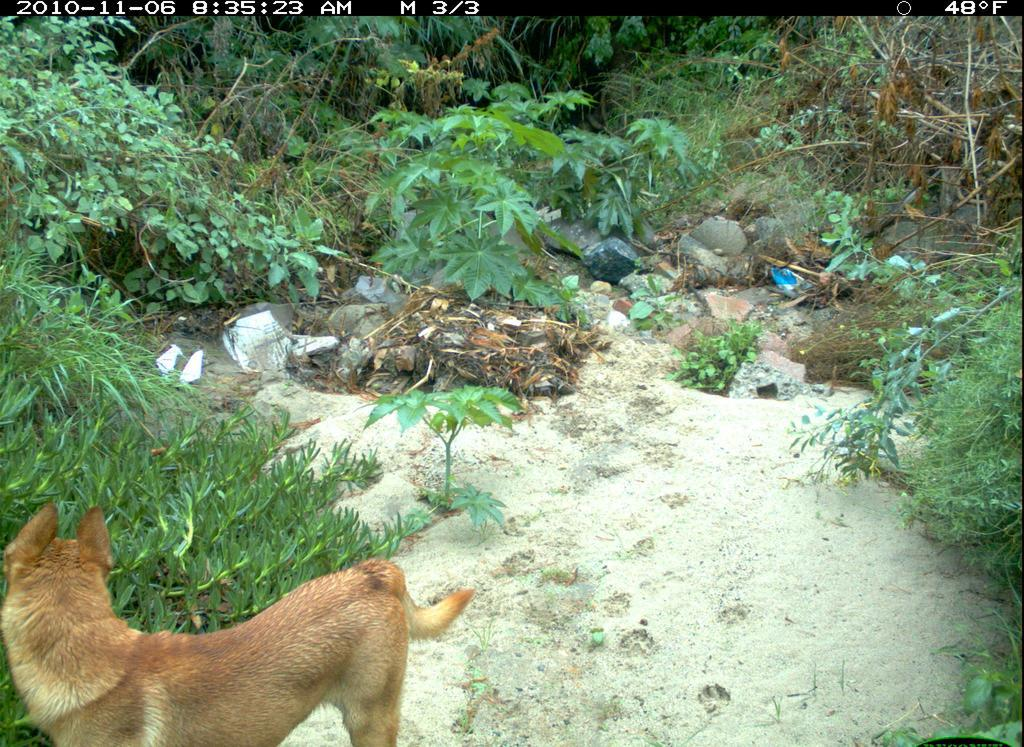dog: (4, 475, 502, 743)
